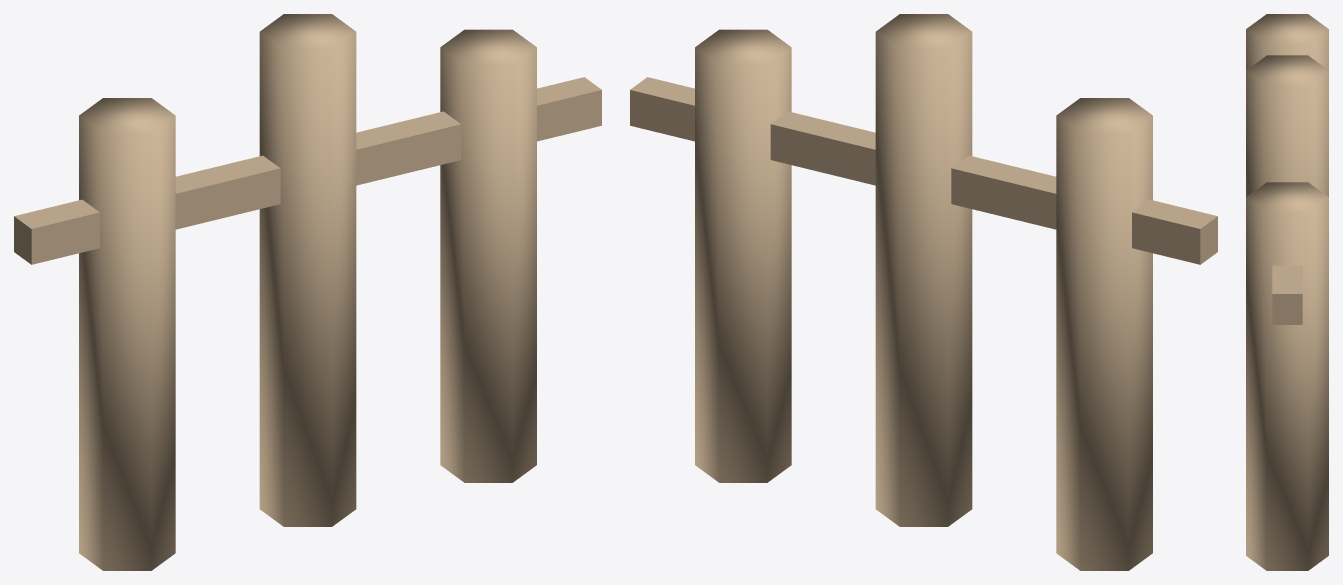
The model's file is palisade.glb.
The picture shows the model from 3 angles, left to right: view 1: azimuth 30°, elevation 25°; view 2: azimuth 150°, elevation 25°; view 3: azimuth 270°, elevation 25°; orthographic projection. The views are drawn at different scales.
Visible parts, largest first — view 1: palisade_wood; view 2: palisade_wood; view 3: palisade_wood.
Part boxes in pixels (x1,y1,x2,y2): palisade_wood: (14,14,601,570); palisade_wood: (630,14,1217,570); palisade_wood: (1246,14,1328,570).
Size of the model in its own units: 1 by 0.8 by 0.1467.
